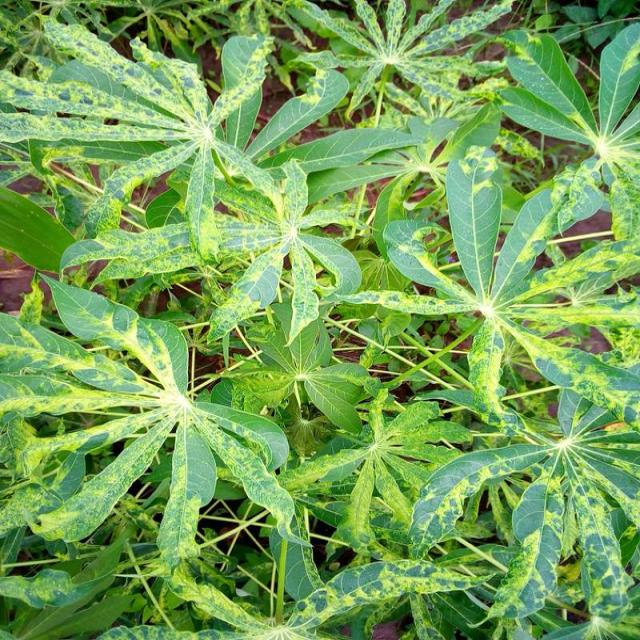cassava leaf: (2, 8, 640, 637)
